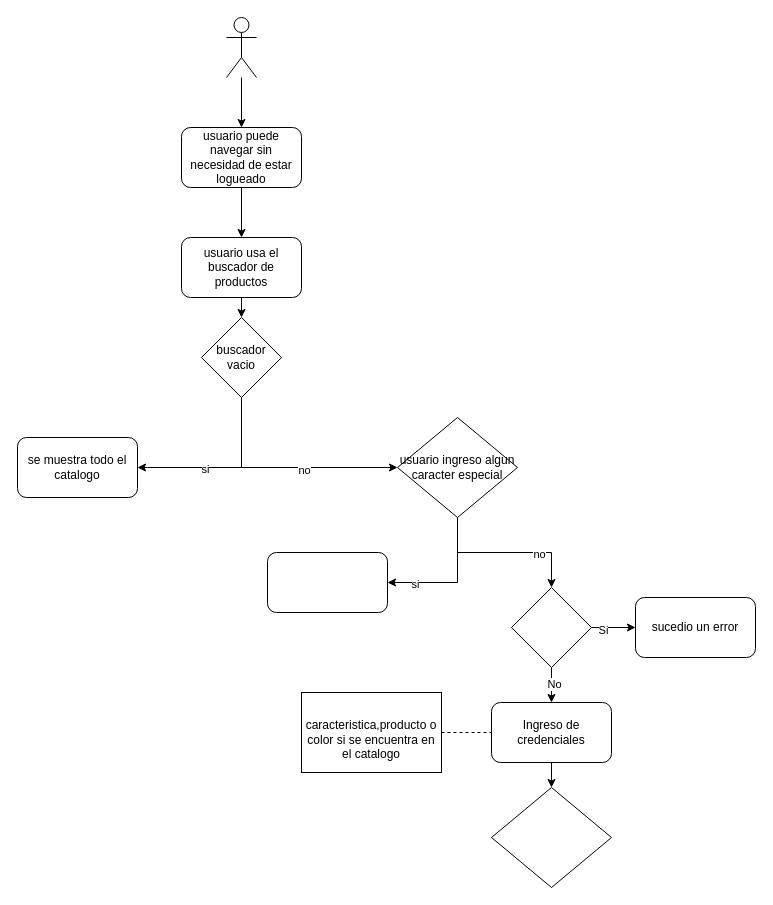
Image size: 773x905. Some labels were removed from this diagram. Each missing label, with the centre of its shape:
bloqueador se activa para no dejar ingresar caracter especial: point (327, 582)
buscador falla?: point (551, 627)
Credenciales validas?: point (551, 837)
usuario: point (241, 47)
